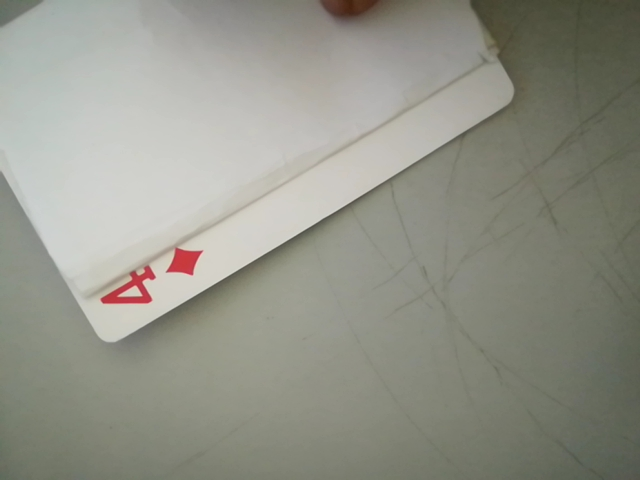fk 4: (86, 242, 211, 323)
